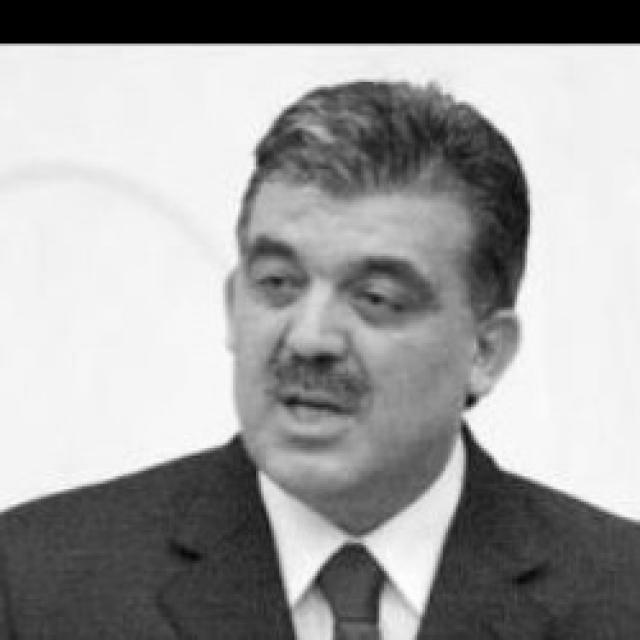real: (230, 171, 476, 501), (237, 245, 438, 325)
